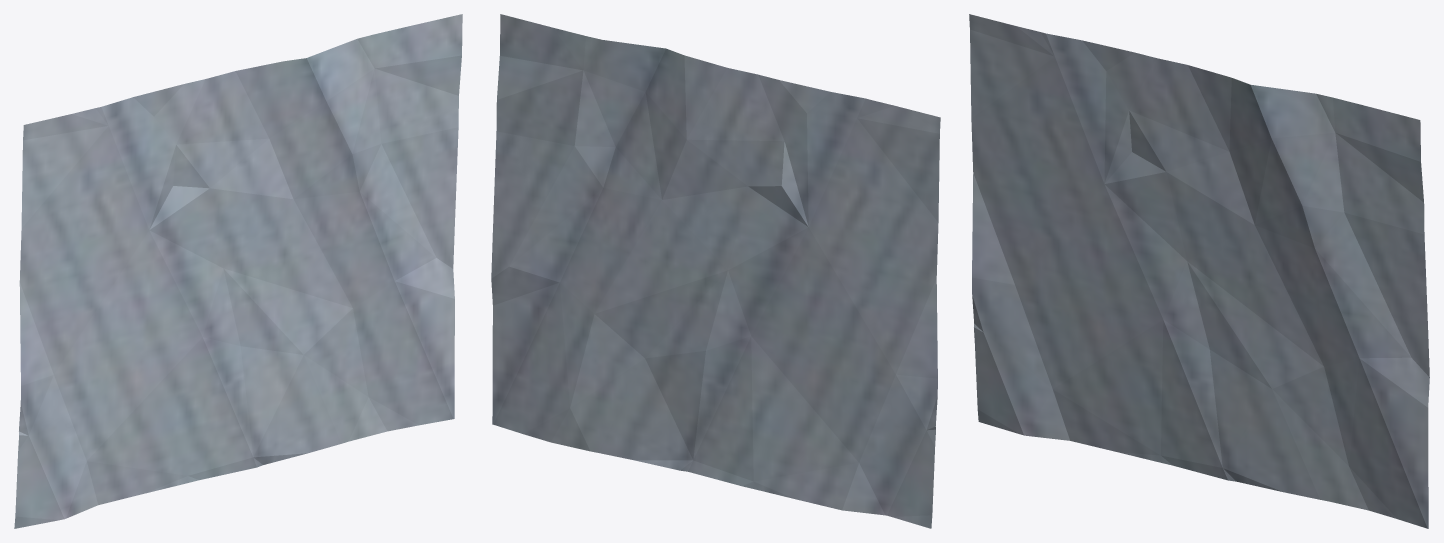
Rendered from Tile_+001_+007_L24_0031311.obj.
3 views of the same model, side by side, from view 1: azimuth 30°, elevation 25°; view 2: azimuth 150°, elevation 25°; view 3: azimuth 330°, elevation 25° (orthographic). The views are drawn at different scales.
Size of the model in its own units: 1.08 by 0.9531 by 0.0762.
Materials: 1 (1 with a texture image).
